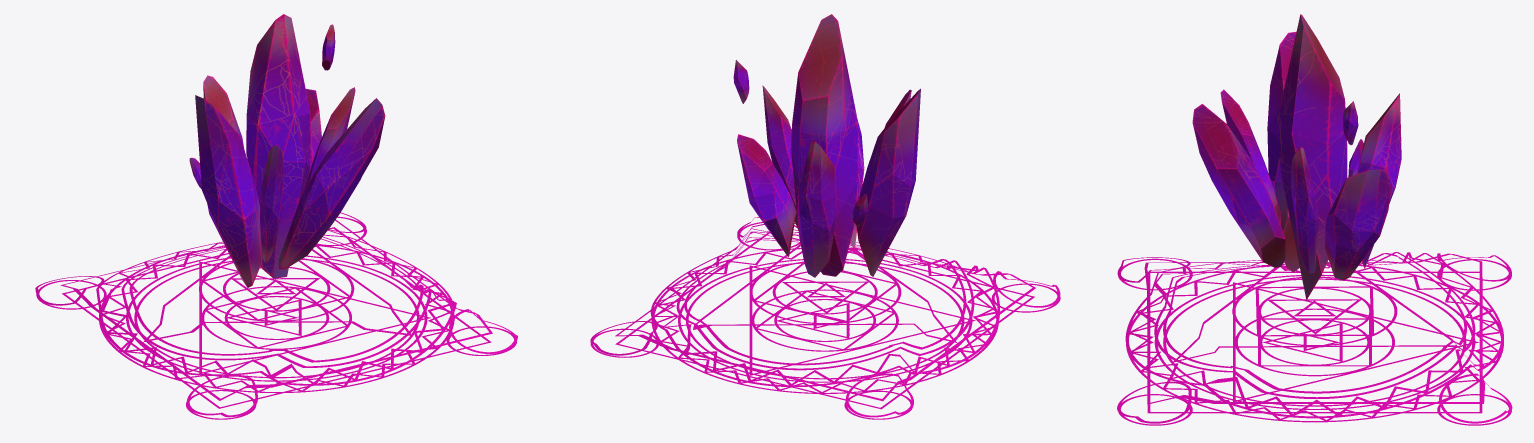
The model's file is CrystalBundel.fbx.
3 renders of one model, left to right at view 1: azimuth 30°, elevation 25°; view 2: azimuth 150°, elevation 25°; view 3: azimuth 270°, elevation 25°, orthographic. The views are drawn at different scales.
Parts seen in each view (by area): view 1: Crystal_Bundel; view 2: Crystal_Bundel; view 3: Crystal_Bundel.
Part boxes in pixels (x1,y1,x2,y2): Crystal_Bundel: [35, 14, 517, 419]; Crystal_Bundel: [590, 14, 1060, 419]; Crystal_Bundel: [1117, 14, 1512, 425].
Size of the model in its own units: 14.55 by 12.89 by 14.55.
